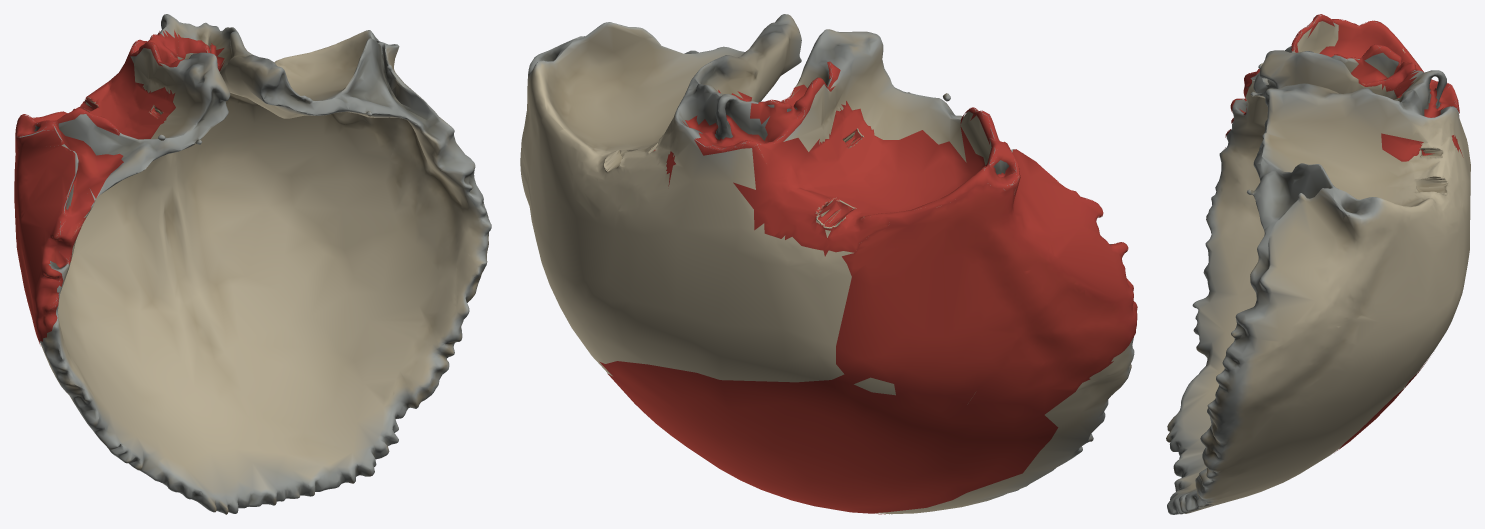
The model's file is os-frontale.glb.
3 renders of one model, left to right at view 1: azimuth 30°, elevation 25°; view 2: azimuth 150°, elevation 25°; view 3: azimuth 270°, elevation 25°, orthographic. The views are drawn at different scales.
Parts seen in each view (by area): view 1: FJ3200, origo__glabella-linea-temporalis__m-corrugator-supercilii, origo__margo-supraorbitalis-pars-orbitalis__m-orbicularis-oc; view 2: FJ3200, origo__glabella-linea-temporalis__m-corrugator-supercilii, origo__squama-tuber__m-occipitofrontalis, origo__margo-supraorbitalis-pars-orbitalis__m-orbicularis-oc, os-frontale__margo-supraorbitalis-pars-orbitalis; view 3: FJ3200, origo__margo-supraorbitalis-pars-orbitalis__m-orbicularis-oc, os-frontale__margo-supraorbitalis-pars-orbitalis.
Part boxes in pixels (x1=…): FJ3200: x1=35, y1=14, x2=491, y2=514; origo__glabella-linea-temporalis__m-corrugator-supercilii: x1=14, y1=122, x2=123, y2=345; origo__margo-supraorbitalis-pars-orbitalis__m-orbicularis-oc: x1=15, y1=30, x2=224, y2=148; FJ3200: x1=520, y1=14, x2=1134, y2=514; origo__glabella-linea-temporalis__m-corrugator-supercilii: x1=836, y1=149, x2=1137, y2=414; origo__squama-tuber__m-occipitofrontalis: x1=599, y1=361, x2=1058, y2=514; origo__margo-supraorbitalis-pars-orbitalis__m-orbicularis-oc: x1=653, y1=61, x2=1020, y2=256; os-frontale__margo-supraorbitalis-pars-orbitalis: x1=667, y1=64, x2=1018, y2=252; FJ3200: x1=1166, y1=21, x2=1470, y2=514; origo__margo-supraorbitalis-pars-orbitalis__m-orbicularis-oc: x1=1291, y1=14, x2=1463, y2=161; os-frontale__margo-supraorbitalis-pars-orbitalis: x1=1291, y1=15, x2=1462, y2=161.
Bounding box in the file's own units: 126 × 109 × 70.75.
